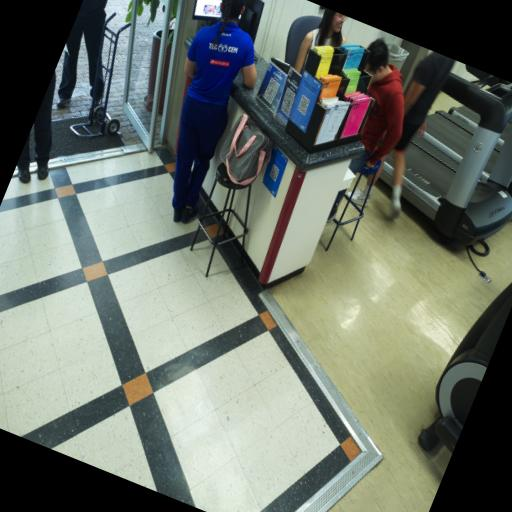person: (173, 0, 256, 223), (390, 52, 455, 219), (349, 39, 404, 182), (57, 0, 107, 108), (295, 9, 347, 72), (33, 72, 55, 180)
